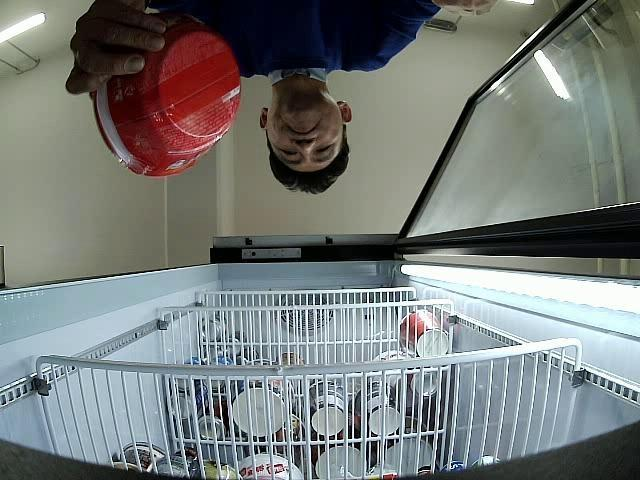10_wangTtukkeong: (93, 11, 241, 178)
